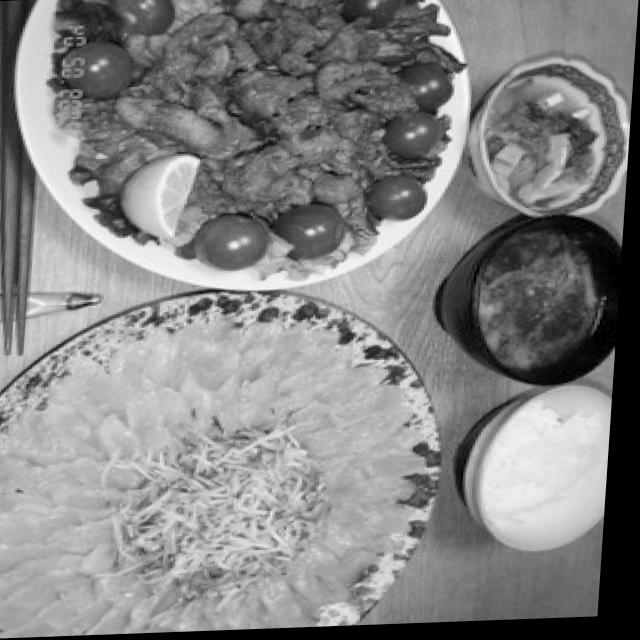熟制海鲜: (474, 54, 636, 220)
